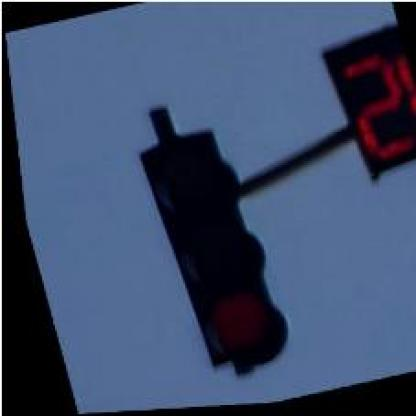red: (129, 130, 292, 383)
